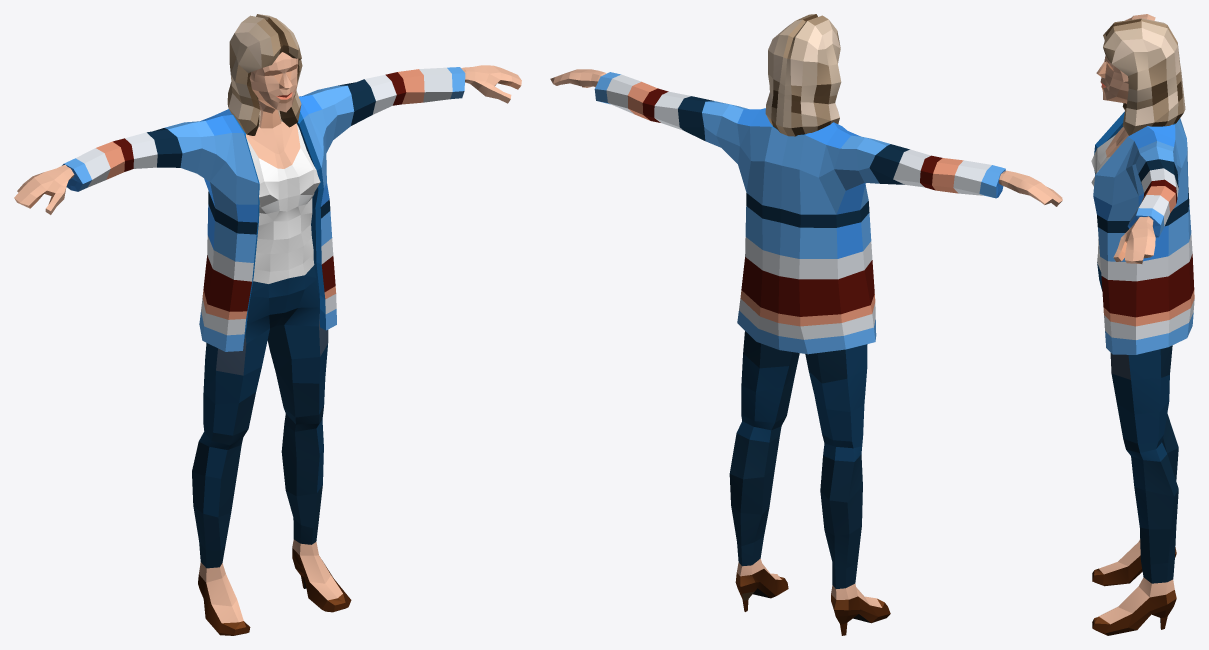
The model's file is casual_Female_I-model.obj.
3 views of the same model, side by side, from view 1: azimuth 30°, elevation 25°; view 2: azimuth 150°, elevation 25°; view 3: azimuth 270°, elevation 25° (orthographic).
Visible parts, largest first — view 1: casual_Female_I, acc_coat; view 2: acc_coat, casual_Female_I; view 3: casual_Female_I, acc_coat.
Boxes of the visible parts, <box> form: casual_Female_I: <box>14,14,521,635</box>; acc_coat: <box>62,67,465,351</box>; acc_coat: <box>594,72,1005,354</box>; casual_Female_I: <box>550,14,1062,635</box>; casual_Female_I: <box>1091,14,1185,635</box>; acc_coat: <box>1093,111,1194,354</box>.
Size of the model in its own units: 154 by 172 by 27.56.
